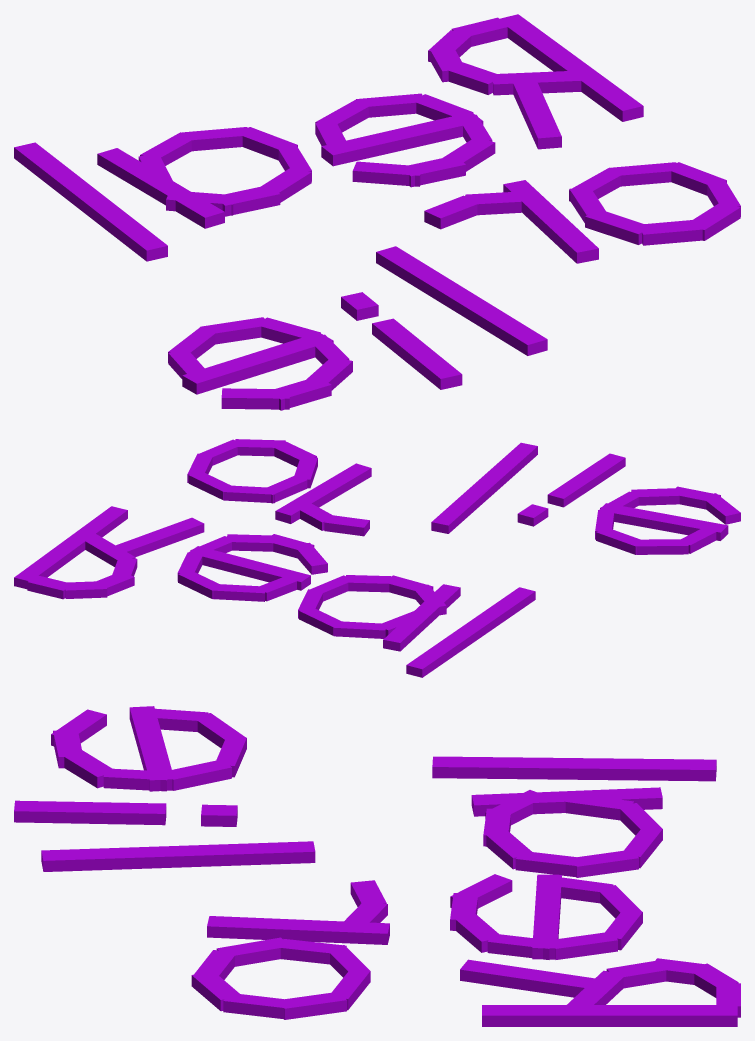
Rendered from realorlie.dae.
The picture shows the model from 3 angles, top to bottom: view 1: azimuth 30°, elevation 25°; view 2: azimuth 150°, elevation 25°; view 3: azimuth 270°, elevation 25°; orthographic projection. The views are drawn at different scales.
Visible parts, largest first — view 1: Cube.018, Cube.027, Cube.000, Cube.011, Cube.043, Cube.017, Cube.035, Cube.039, Cube.007, Cube.006, Cube.048, Cube.016 (+31 smaller); view 2: Cube.027, Cube.018, Cube.000, Cube.043, Cube.035, Cube.011, Cube.039, Cube.017, Cube.007, Cube.009, Cube.006, Cube.041 (+31 smaller); view 3: Cube.027, Cube.018, Cube.000, Cube.035, Cube.039, Cube.007, Cube.017, Cube.043, Cube.011, Cube.012, Cube.044, Cube.031 (+37 smaller).
Boxes of the visible parts, x1,y1,x2,y2 form: Cube.018: (376,246,547,355); Cube.027: (14,142,167,261); Cube.000: (498,14,643,121); Cube.011: (321,112,483,166); Cube.043: (182,332,333,394); Cube.017: (97,148,224,228); Cube.035: (503,180,598,263); Cube.039: (372,318,462,389); Cube.007: (511,76,561,149); Cube.006: (491,70,582,95); Cube.048: (221,388,289,409); Cube.016: (352,161,420,186); Cube.027: (406,587,535,677); Cube.018: (431,442,537,533); Cube.000: (14,506,127,589); Cube.043: (599,503,728,540); Cube.035: (275,463,371,523); Cube.011: (189,546,310,590); Cube.039: (547,453,625,507); Cube.017: (383,584,460,651); Cube.007: (116,517,204,556); Cube.009: (213,584,266,601); Cube.006: (80,533,135,566); Cube.041: (636,539,688,554); Cube.027: (432,756,716,781); Cube.018: (41,841,315,871); Cube.000: (482,1005,737,1026); Cube.035: (207,916,389,944); Cube.039: (14,800,166,825); Cube.007: (460,959,607,997); Cube.017: (471,787,662,816); Cube.043: (129,706,172,791); Cube.011: (532,874,561,959); Cube.012: (552,931,617,959); Cube.044: (164,759,231,790); Cube.031: (283,991,346,1019).
Bounding box in the file's own units: 7.7 × 7.65 × 0.1305.
